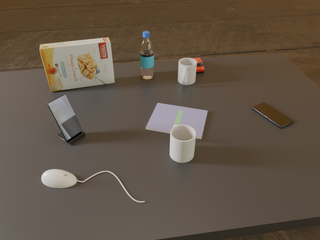book: (146, 103, 207, 139)
bottle: (140, 31, 154, 79)
box: (40, 38, 114, 91)
cup: (170, 124, 196, 163), (178, 58, 197, 85)
mouse: (42, 169, 77, 188)
phone: (47, 94, 83, 142), (252, 102, 293, 128)
toy_car: (193, 58, 204, 72)
